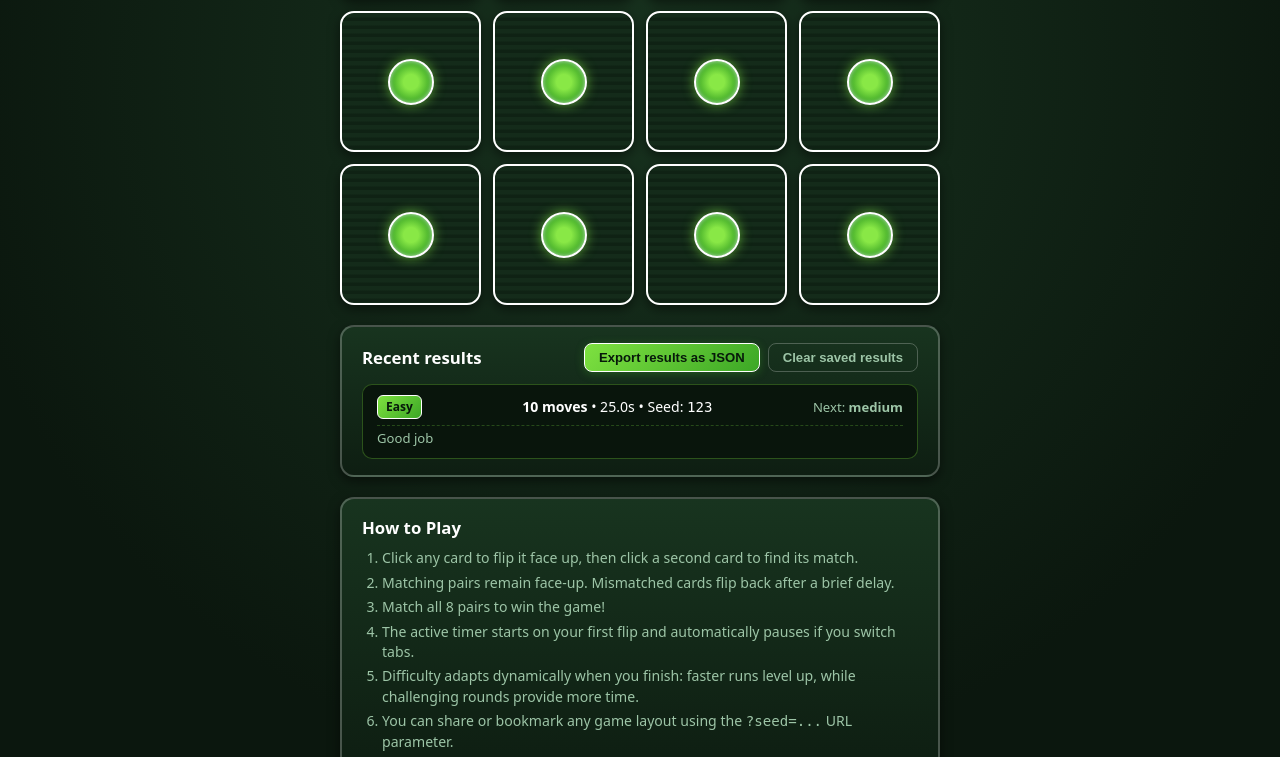
Memory Game UI (App.jsx) › clears recent results list when clicking Clear saved results
The width and height of the screenshot is (1280, 757).
(page scrolled)
Check: the text "10 moves" is shown, box left=522, top=397, right=588, bottom=416
Click the button "Clear saved results". click: click(843, 358)
box: left=768, top=344, right=918, bottom=372
(page scrolled)
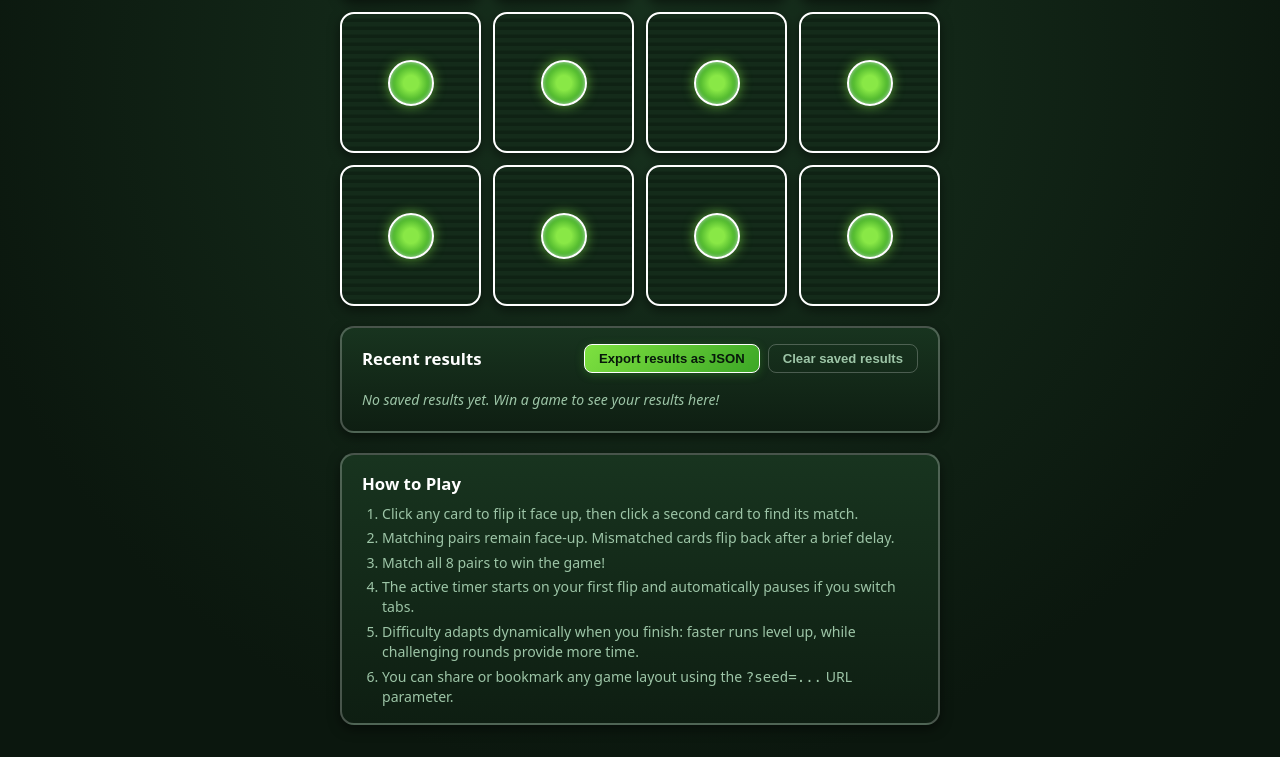
Check: the text "10 moves" is gone
Check: the text "No saved results yet. Win a game to see your results here!" is shown, box left=362, top=390, right=719, bottom=410
